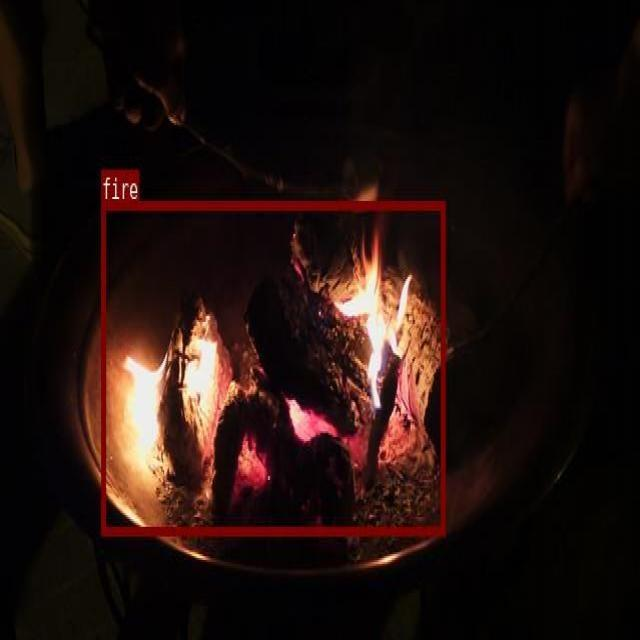fire: (101, 201, 444, 534)
